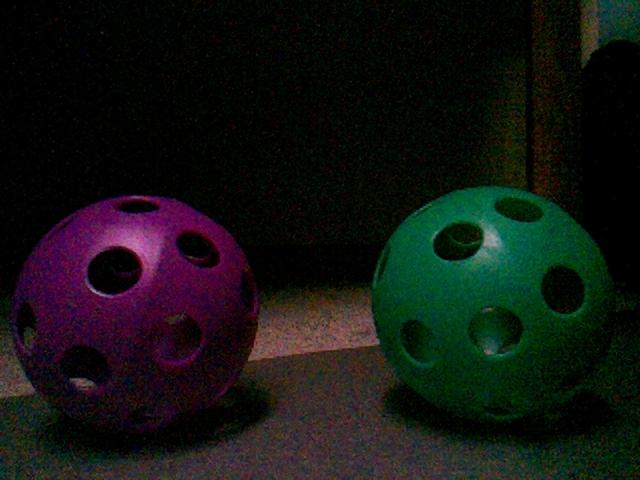Green: (366, 186, 615, 421)
Purple: (8, 196, 260, 437)
